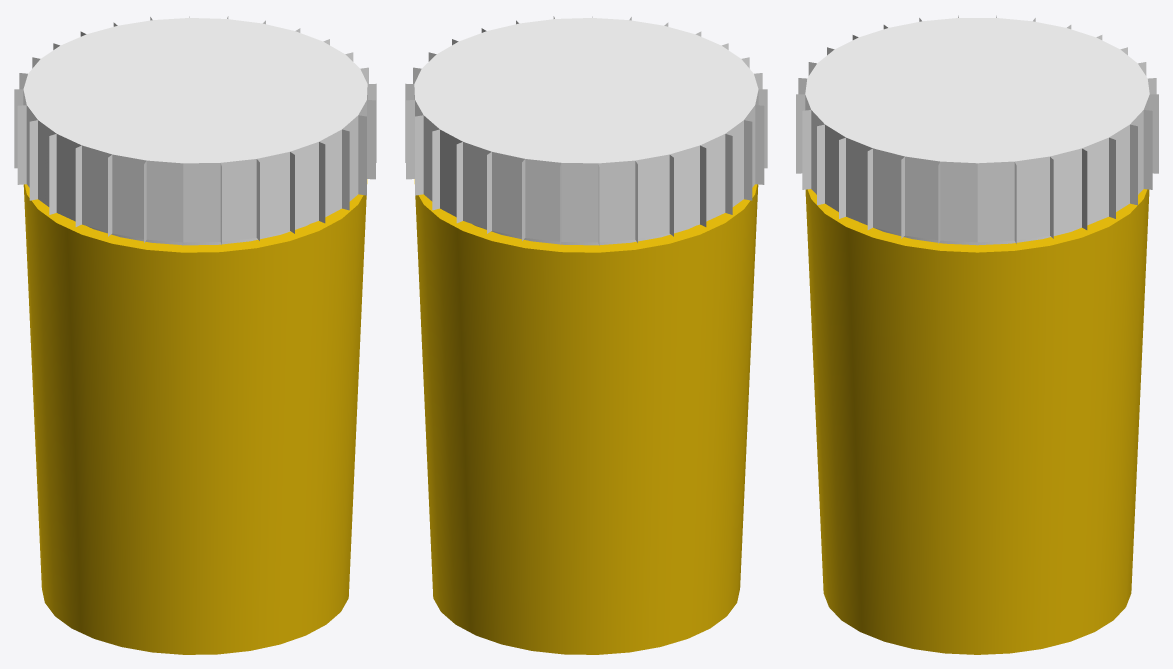
Rendered from pillbottle.fbx.
3 renders of one model, left to right at view 1: azimuth 30°, elevation 25°; view 2: azimuth 150°, elevation 25°; view 3: azimuth 270°, elevation 25°, orthographic.
Visible parts, largest first — view 1: bottle, bottlecap, bottlecapmid; view 2: bottle, bottlecap, bottlecapmid; view 3: bottle, bottlecap, bottlecapmid.
Part boxes in pixels (x1,y1,x2,y2): bottle: (23, 179, 367, 654); bottlecap: (14, 16, 376, 245); bottlecapmid: (87, 224, 309, 245); bottle: (414, 179, 758, 654); bottlecap: (405, 16, 767, 245); bottlecapmid: (472, 224, 694, 245); bottle: (805, 189, 1149, 654); bottlecap: (796, 15, 1158, 243); bottlecapmid: (862, 223, 1092, 245).
Bounding box in the file's own units: 8.71 × 13.25 × 8.73.
